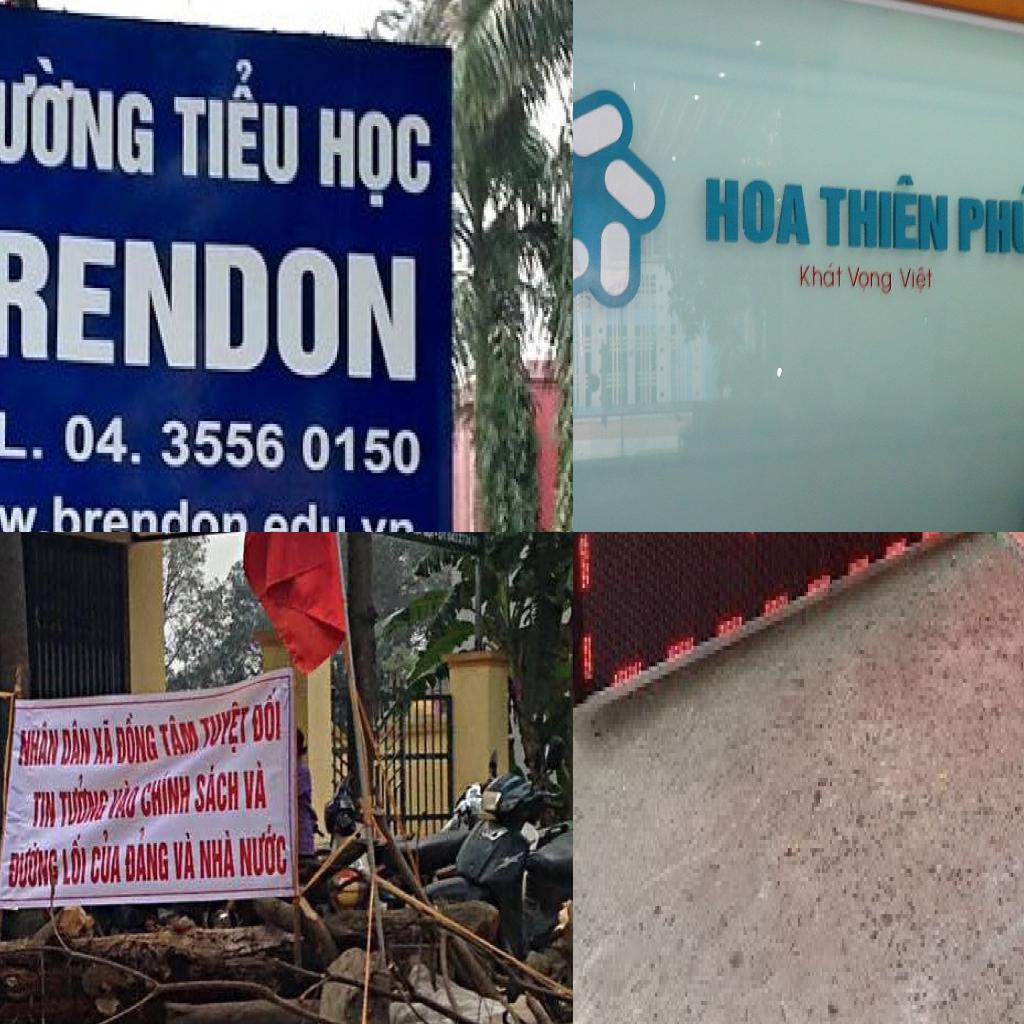text: (0, 215, 419, 389), (60, 406, 426, 482), (0, 48, 159, 181), (0, 485, 419, 532), (168, 51, 307, 192), (317, 103, 433, 218), (815, 175, 951, 254), (704, 170, 814, 249), (956, 177, 1024, 255), (238, 820, 292, 882), (198, 698, 253, 757), (0, 400, 51, 461), (59, 773, 112, 830), (7, 838, 61, 890), (125, 827, 171, 887), (140, 769, 194, 818), (193, 763, 241, 813), (118, 714, 162, 766), (196, 828, 238, 882), (156, 712, 201, 762), (16, 720, 62, 768), (253, 683, 286, 747), (90, 828, 124, 890), (240, 758, 272, 812), (61, 832, 89, 891), (846, 262, 893, 297), (59, 718, 92, 767), (105, 779, 142, 821), (30, 788, 59, 833), (92, 716, 115, 769), (798, 262, 844, 288), (174, 830, 196, 884), (898, 264, 934, 294), (424, 532, 437, 546), (412, 532, 423, 548), (398, 532, 411, 538)
